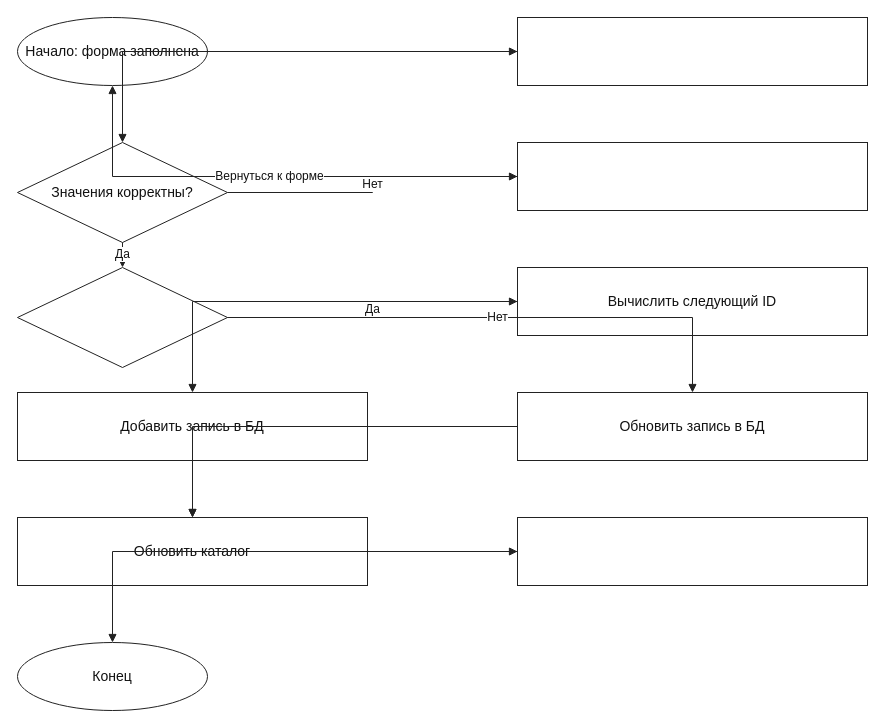
Image size: 885x728. Some labels were removed from this diagram. Here are the shapes that lost their labels. From the top down, the centre of each, then its label:
(x=692, y=51): Проверить обязательные поля, цену и остаток
(x=692, y=176): Показать ошибку и подсказку
(x=122, y=317): Новый товар?
(x=692, y=551): Показать сообщение об успехе
